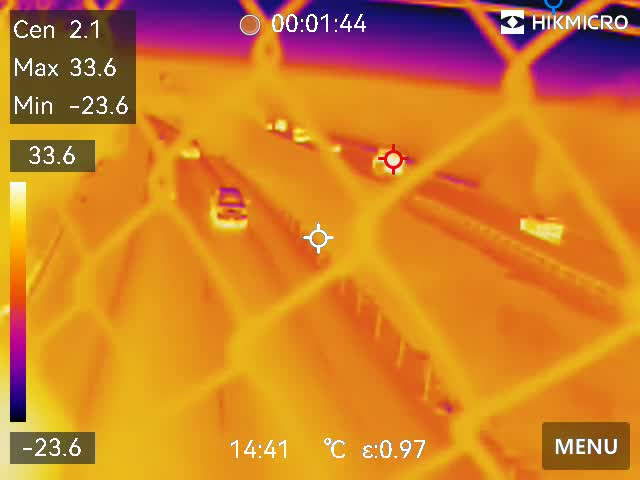vehicle: (511, 212, 572, 248), (208, 184, 246, 231)
